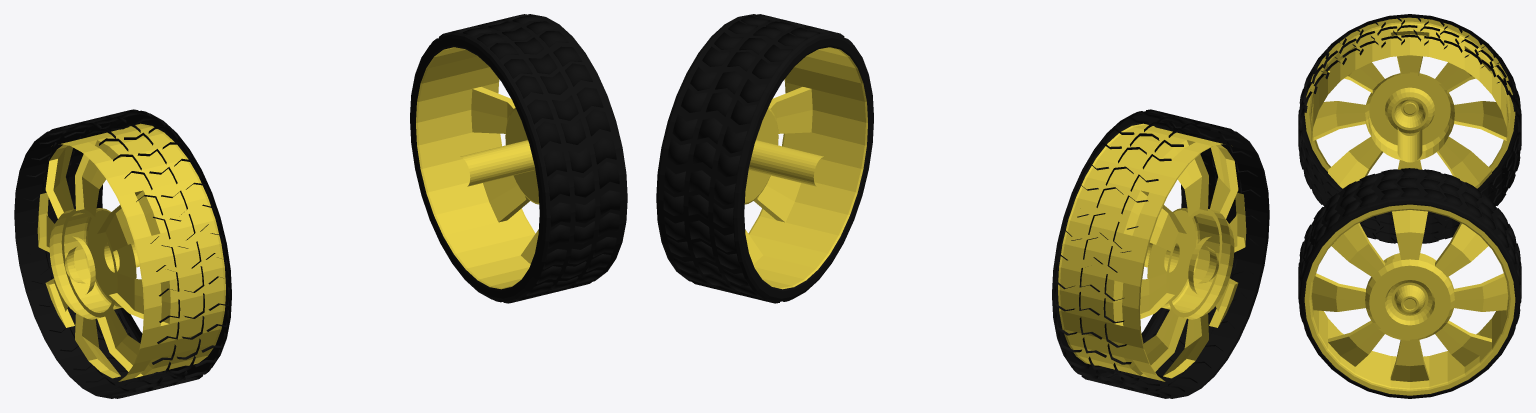
The model's file is bot_wheels.gltf.
3 views of the same model, side by side, from view 1: azimuth 30°, elevation 25°; view 2: azimuth 150°, elevation 25°; view 3: azimuth 270°, elevation 25° (orthographic). The views are drawn at different scales.
Parts seen in each view (by area): view 1: Wheel.R, Wheel.L; view 2: Wheel.R, Wheel.L; view 3: Wheel.L, Wheel.R.
Boxes of the visible parts, x1=… form: Wheel.R: x1=14, y1=109, x2=231, y2=398; Wheel.L: x1=410, y1=14, x2=627, y2=303; Wheel.R: x1=1052, y1=109, x2=1269, y2=398; Wheel.L: x1=656, y1=14, x2=873, y2=303; Wheel.L: x1=1298, y1=168, x2=1521, y2=398; Wheel.R: x1=1298, y1=14, x2=1521, y2=243.
Size of what is drawn, in the model's own units: 3.54 by 1.71 by 1.71.
